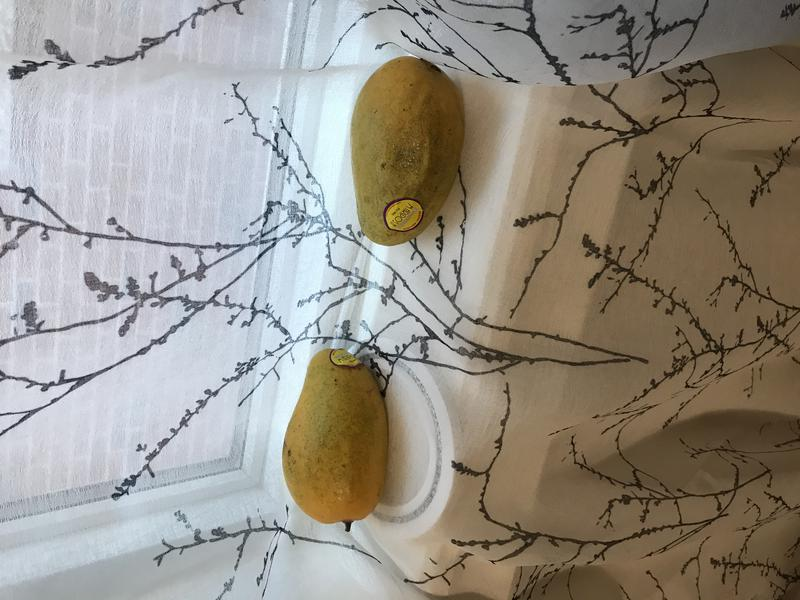w: (339, 50, 474, 256), (278, 337, 405, 544)
